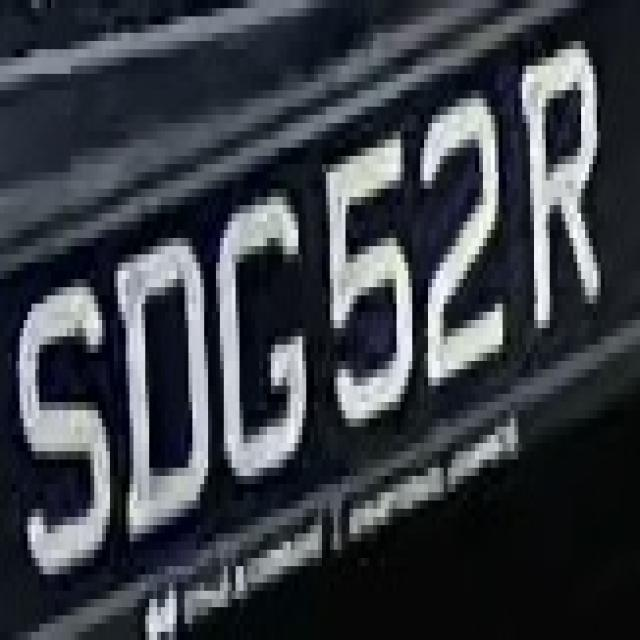2: (408, 98, 514, 410)
5: (322, 123, 416, 484)
D: (118, 222, 212, 550)
G: (200, 213, 310, 492)
R: (511, 16, 616, 353)
S: (4, 262, 122, 590)
